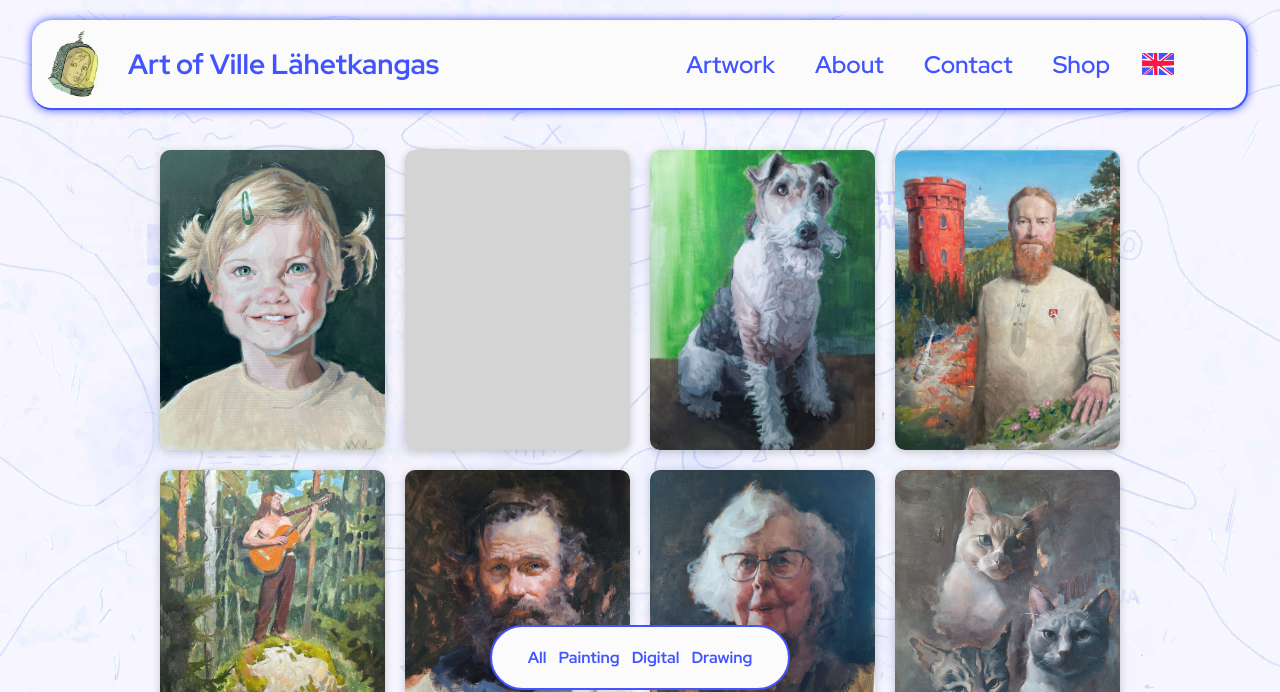
Test: Contact & Footer i18n › translates Contact page and Footer when toggling language
// Navigate to Contact page
Click the link "Contact" at point(969, 65), box [924,49,1013,80]
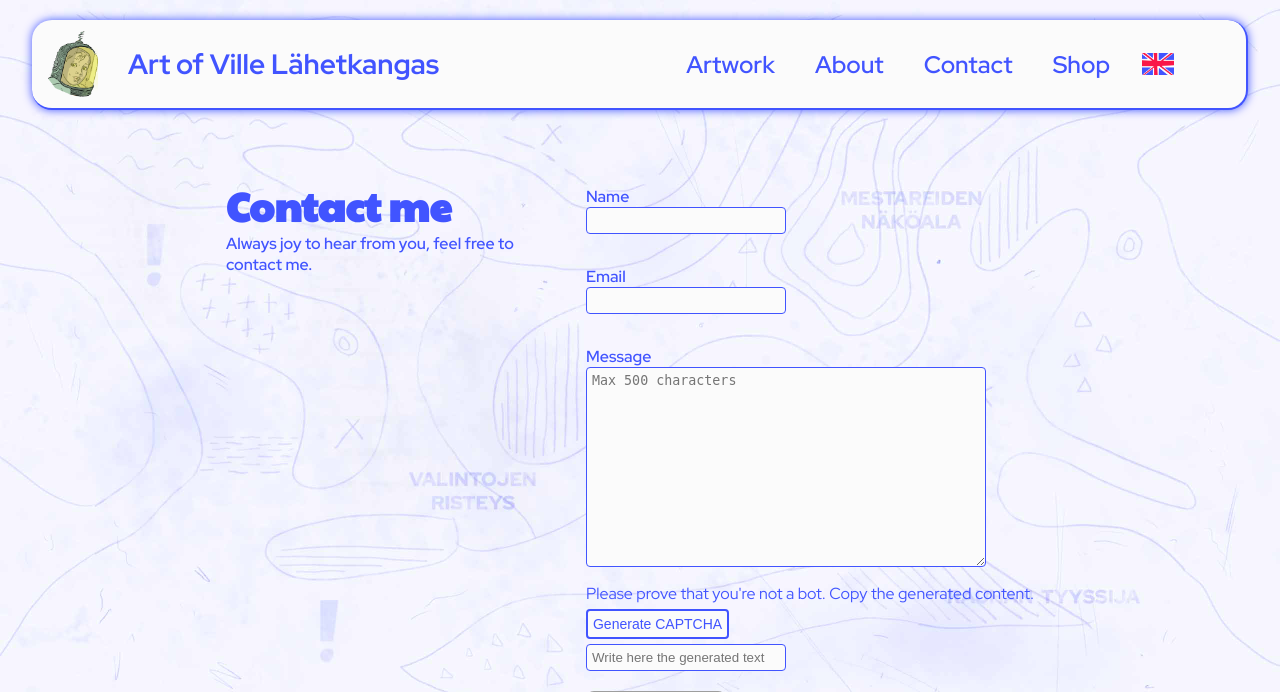
Check: the heading "Contact me" is shown, box [226,177,452,233]
Check: the text "Always joy to hear from you" is shown, box [226,233,514,275]
// Toggle to Finnish
Click the button with test id "lang-toggle" at point(1158, 64), box [1136,36,1180,92]
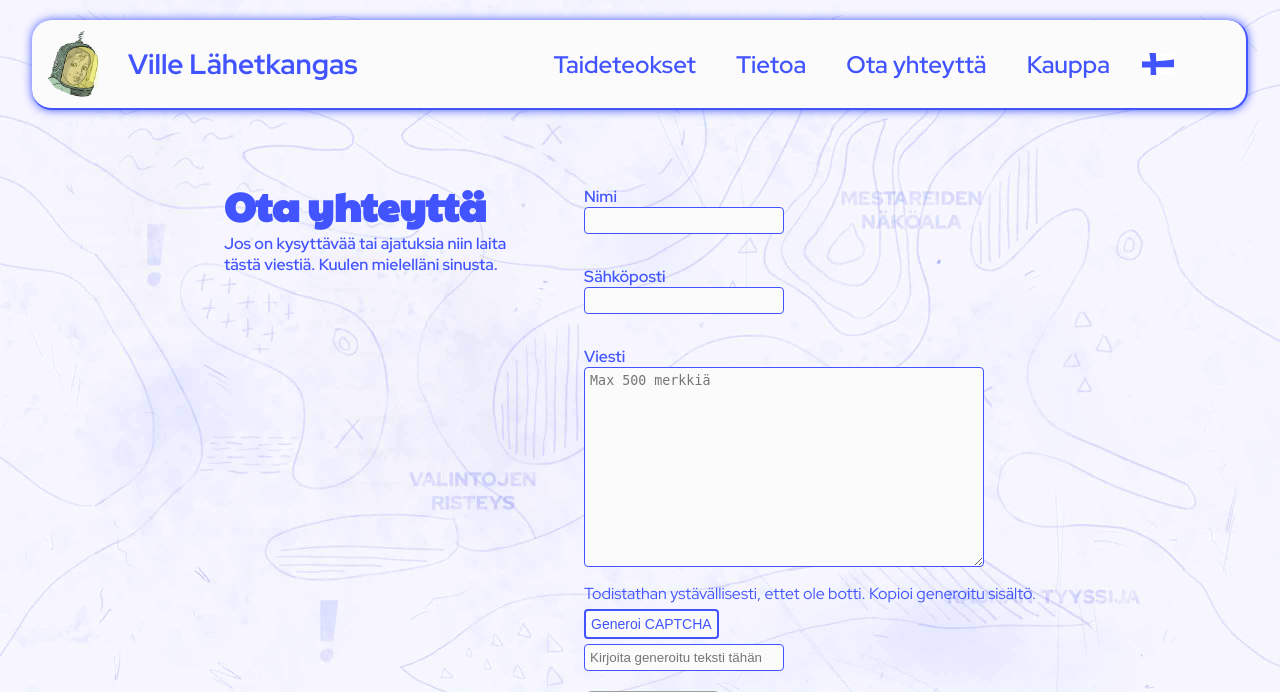
Check: the link "Ota yhteyttä" is shown, box [846,48,987,80]
Check: the text "Jos on kysyttävää" is shown, box [224,233,506,275]
